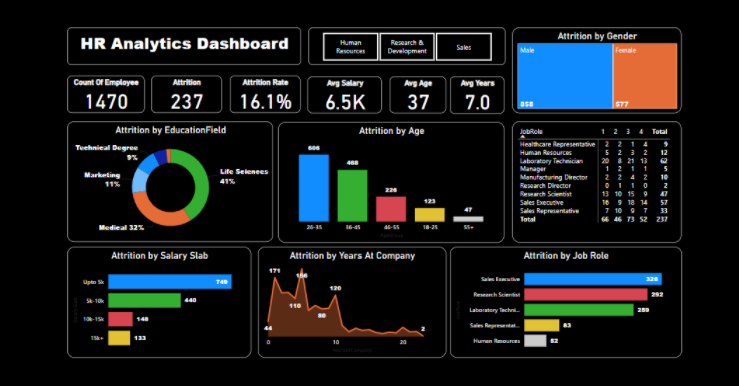

What the dashboard file says about the page in this screenshot:
{"tool":"powerbi","page":{"name":"Home","canvas":[1280,720],"ordinal":0},"visuals":[{"type":"card","title":"Count Of Employee","fields":{"Values":["CountNonNull(HR_Analytics.EmpID)"]},"box":[15,127.5,157.5,76.2],"z":0},{"type":"card","title":"Attrition","fields":{"Values":["Sum(HR_Analytics.AttritionCount)"]},"box":[187.5,127.5,143.8,76.2],"z":1000},{"type":"card","title":"Attrition Rate","fields":{"Values":["HR_Analytics.AttritionRate"]},"box":[347.5,127.5,143.8,76.2],"z":2000},{"type":"card","title":"Avg Age","fields":{"Values":["Avg(HR_Analytics.Age)"]},"box":[672.5,128.8,115,75],"z":3000},{"type":"card","title":"Avg Salary","fields":{"Values":["Avg(HR_Analytics.MonthlyIncome)"]},"box":[506.2,128.8,151.2,75],"z":4000},{"type":"card","title":"Avg Years","fields":{"Values":["Avg(HR_Analytics.YearsAtCompany)"]},"box":[796.2,128.8,111.2,76.2],"z":5000},{"type":"donutChart","title":"Attrition by EducationField","fields":{"Category":["HR_Analytics.EducationField"],"Y":["CountNonNull(HR_Analytics.Attrition)"]},"box":[15,220,420,246.2],"z":6000},{"type":"columnChart","title":"Attrition by Age","fields":{"Category":["HR_Analytics.AgeGroup"],"Y":["CountNonNull(HR_Analytics.Attrition)"]},"box":[446.2,221.2,461.2,246.2],"z":7000},{"type":"pivotTable","fields":{"Rows":["HR_Analytics.JobRole"],"Columns":["HR_Analytics.JobSatisfaction"],"Values":["Sum(HR_Analytics.AttritionCount)"]},"box":[923.3,220,345,246.7],"z":8000},{"type":"clusteredBarChart","title":"Attrition by Salary Slab","fields":{"Category":["HR_Analytics.SalarySlab"],"Y":["CountNonNull(HR_Analytics.Attrition)"]},"box":[15,475,375,226.2],"z":9000},{"type":"clusteredBarChart","title":"Attrition by Job Role","fields":{"Category":["HR_Analytics.JobRole"],"Y":["CountNonNull(HR_Analytics.Attrition)"]},"box":[796.2,475,472.5,226.2],"z":10000},{"type":"areaChart","title":"Attrition by Years At Company","fields":{"Category":["HR_Analytics.YearsAtCompany"],"Y":["CountNonNull(HR_Analytics.Attrition)"]},"box":[403.8,475,383.8,226.2],"z":11000},{"type":"treemap","title":"Attrition by Gender","fields":{"Values":["CountNonNull(HR_Analytics.Attrition)"],"Group":["HR_Analytics.Gender"]},"box":[923.3,28.3,345,175],"z":12000},{"type":"slicer","fields":{"Values":["HR_Analytics.Department"]},"box":[506.7,28.3,401.7,76.7],"z":13000},{"type":"textbox","box":[15,28.3,476.7,76.7],"z":14000}]}

Visuals, with their boxes on the page's 1280x720 design canvas (x1, y1, x2, y2). These are canvas units, not pixel positions in the 739x386 screenshot, which may show the page scaled, cropped or inside an application window:
"Count Of Employee" card: <region>15, 128, 172, 204</region>
"Attrition" card: <region>188, 128, 331, 204</region>
"Attrition Rate" card: <region>348, 128, 491, 204</region>
"Avg Age" card: <region>672, 129, 788, 204</region>
"Avg Salary" card: <region>506, 129, 657, 204</region>
"Avg Years" card: <region>796, 129, 907, 205</region>
"Attrition by EducationField" donutChart: <region>15, 220, 435, 466</region>
"Attrition by Age" columnChart: <region>446, 221, 907, 467</region>
pivotTable - HR_Analytics.JobRole x HR_Analytics.JobSatisfaction: <region>923, 220, 1268, 467</region>
"Attrition by Salary Slab" clusteredBarChart: <region>15, 475, 390, 701</region>
"Attrition by Job Role" clusteredBarChart: <region>796, 475, 1269, 701</region>
"Attrition by Years At Company" areaChart: <region>404, 475, 788, 701</region>
"Attrition by Gender" treemap: <region>923, 28, 1268, 203</region>
slicer - HR_Analytics.Department: <region>507, 28, 908, 105</region>
textbox: <region>15, 28, 492, 105</region>
